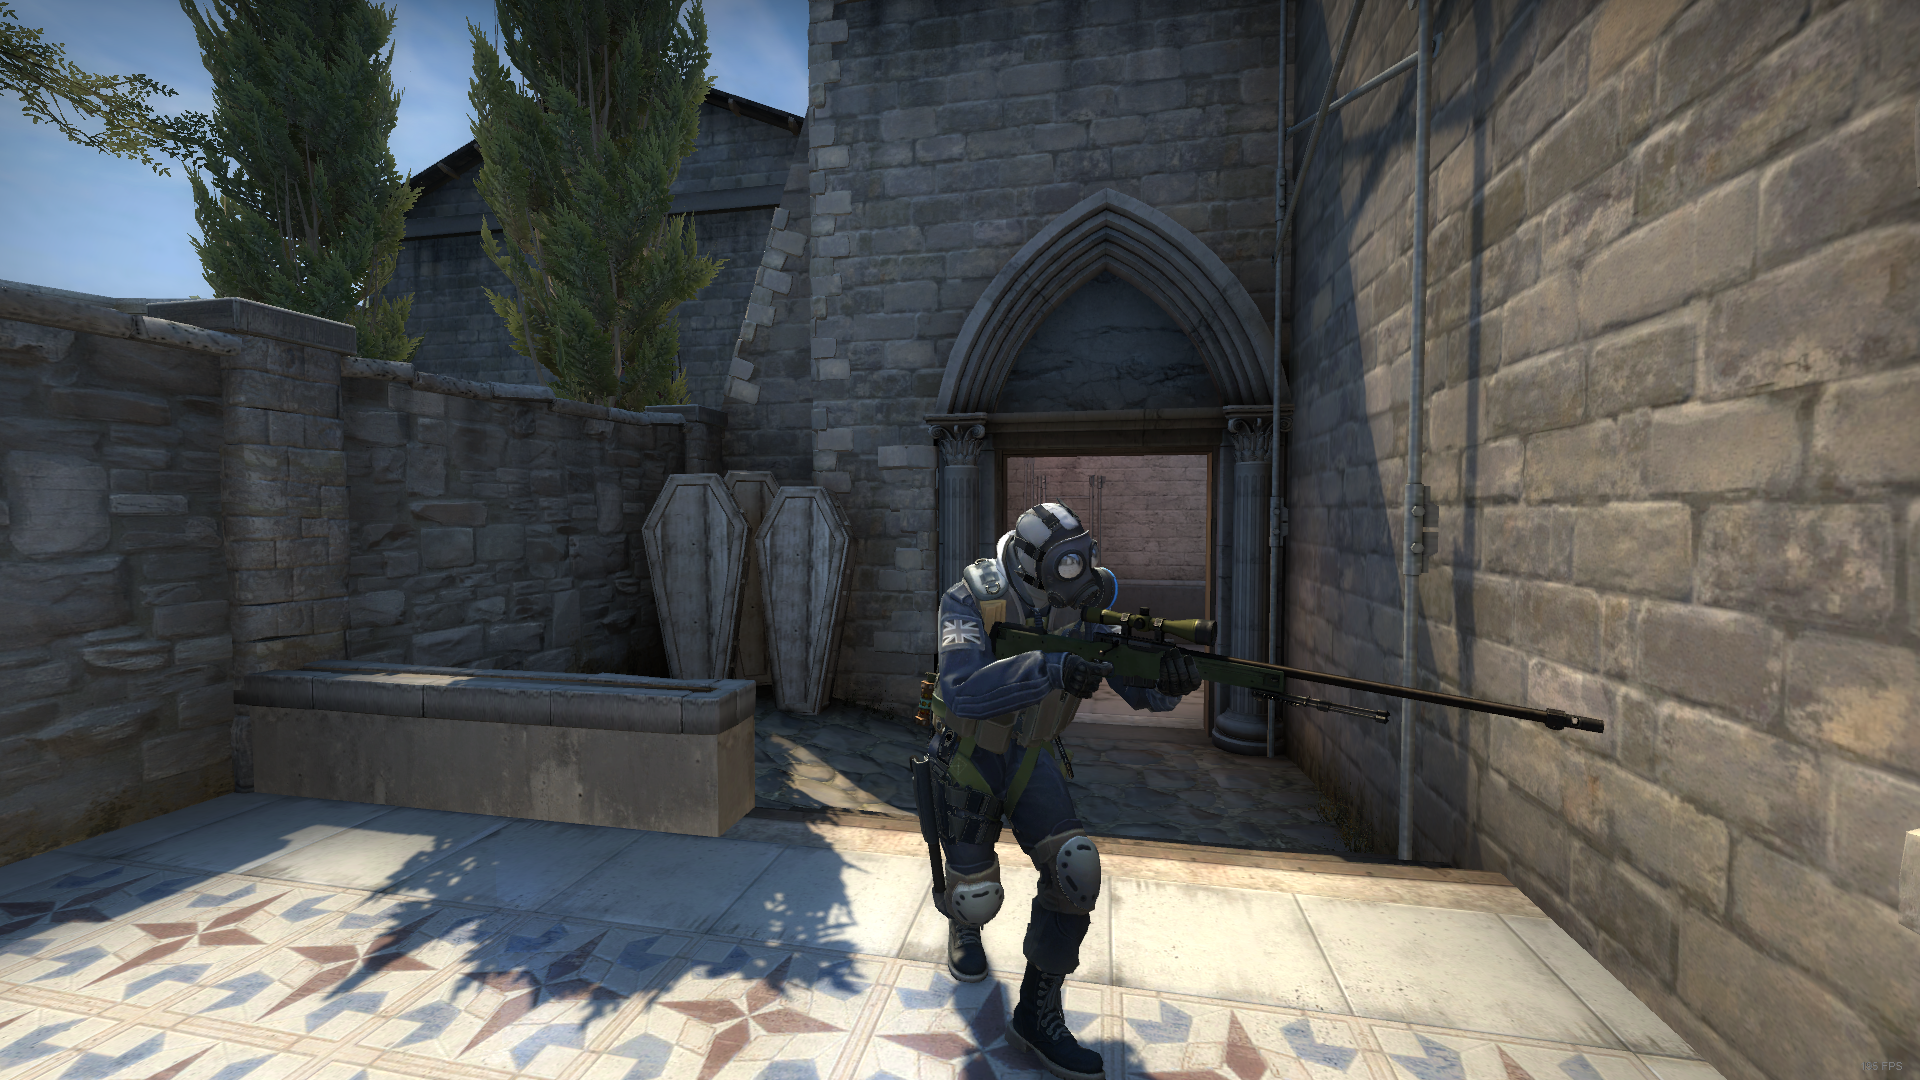ct: (914, 500, 1222, 1080)
